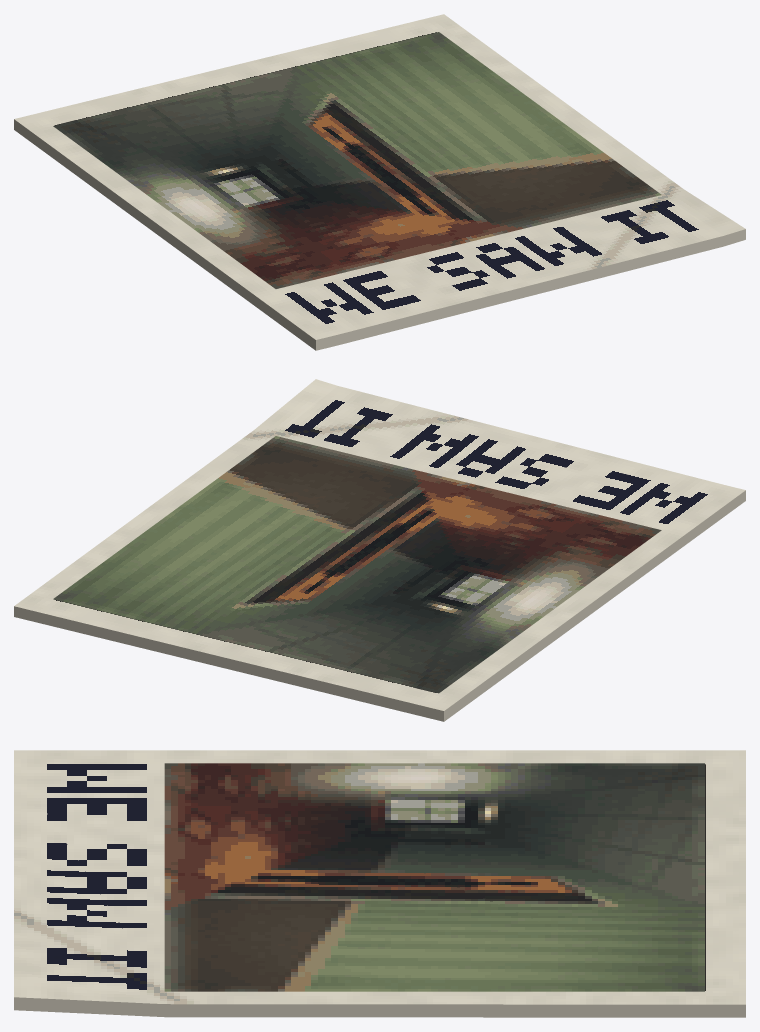
Rendered from SM_Motel_InstantPhoto.glb.
3 renders of one model, top to bottom at view 1: azimuth 30°, elevation 25°; view 2: azimuth 150°, elevation 25°; view 3: azimuth 270°, elevation 25°, orthographic. The views are drawn at different scales.
Parts seen in each view (by area): view 1: SM_Motel_InstantPhoto; view 2: SM_Motel_InstantPhoto; view 3: SM_Motel_InstantPhoto.
Boxes of the visible parts, box(x1,y1,x2,y2) form: SM_Motel_InstantPhoto: box(14, 14, 745, 350); SM_Motel_InstantPhoto: box(14, 379, 745, 721); SM_Motel_InstantPhoto: box(14, 750, 745, 1017).
Size of what is drawn, in the model's own units: 0.088 by 0.0033 by 0.107.
1 material, 1 textured.
